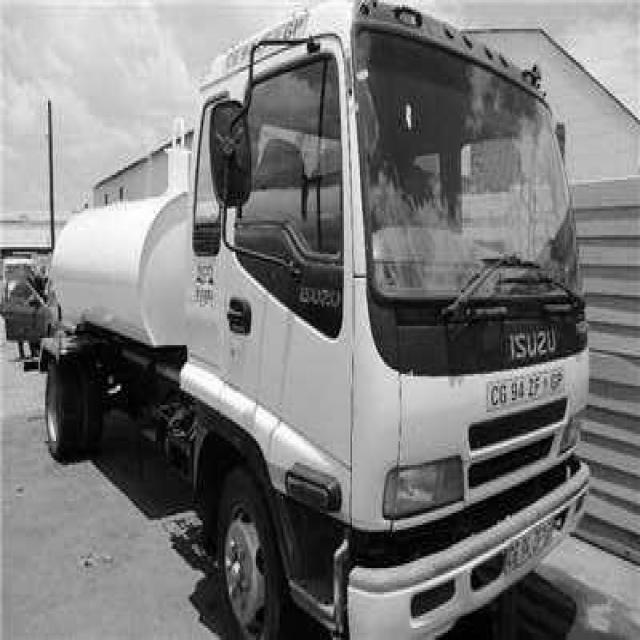Truck: (40, 0, 589, 638)
